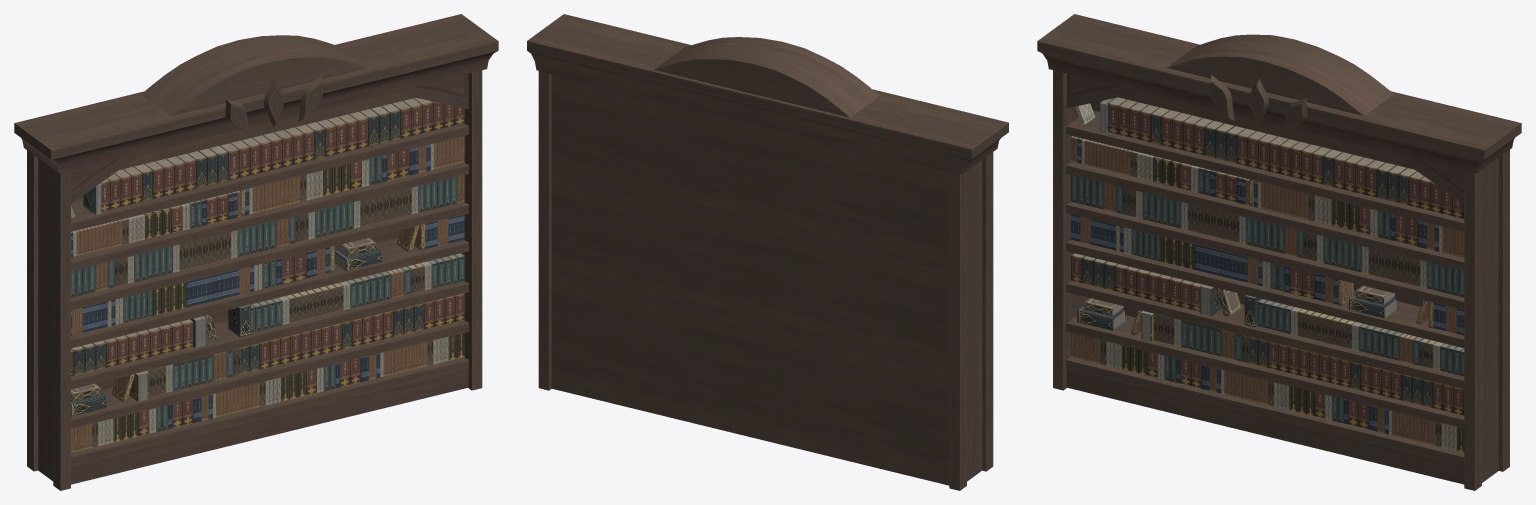
File: Homeworld_Interior_Xm_Cabinet_Prop_Shuguibig_01_Vo.fbx
3 views of the same model, side by side, from view 1: azimuth 30°, elevation 25°; view 2: azimuth 150°, elevation 25°; view 3: azimuth 330°, elevation 25° (orthographic).
Visible parts, largest first — view 1: Homeworld_Interior_Xm_Cabinet_Prop_Shuguibig_01_Vo; view 2: Homeworld_Interior_Xm_Cabinet_Prop_Shuguibig_01_Vo; view 3: Homeworld_Interior_Xm_Cabinet_Prop_Shuguibig_01_Vo.
Boxes of the visible parts, x1,y1,x2,y2 form: Homeworld_Interior_Xm_Cabinet_Prop_Shuguibig_01_Vo: [14, 14, 498, 490]; Homeworld_Interior_Xm_Cabinet_Prop_Shuguibig_01_Vo: [527, 14, 1008, 490]; Homeworld_Interior_Xm_Cabinet_Prop_Shuguibig_01_Vo: [1037, 14, 1521, 490].
Size of the model in its own units: 4.39 by 3.54 by 0.6836.
